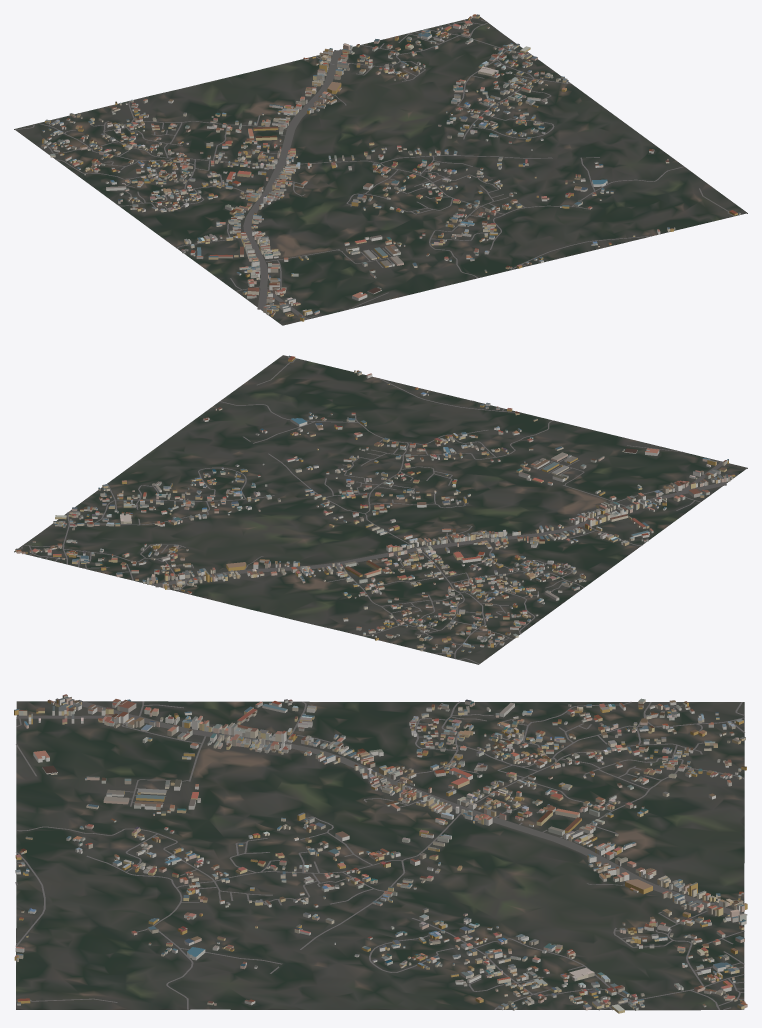
The picture shows the model from 3 angles, top to bottom: view 1: azimuth 30°, elevation 25°; view 2: azimuth 150°, elevation 25°; view 3: azimuth 270°, elevation 25°; orthographic projection. The views are drawn at different scales.
Parts seen in each view (by area): view 1: ground, buildings, roads; view 2: ground, buildings, roads; view 3: ground, buildings, roads.
Boxes of the visible parts, bbox=[...] form: ground: bbox=[14, 17, 747, 325]; buildings: bbox=[41, 14, 740, 321]; roads: bbox=[15, 19, 734, 320]; ground: bbox=[14, 355, 747, 664]; buildings: bbox=[15, 355, 735, 656]; roads: bbox=[21, 358, 726, 664]; ground: bbox=[16, 701, 744, 1010]; buildings: bbox=[14, 694, 747, 1013]; roads: bbox=[15, 700, 747, 1010].
Size of the model in its own units: 1423 by 25.57 by 1413.
